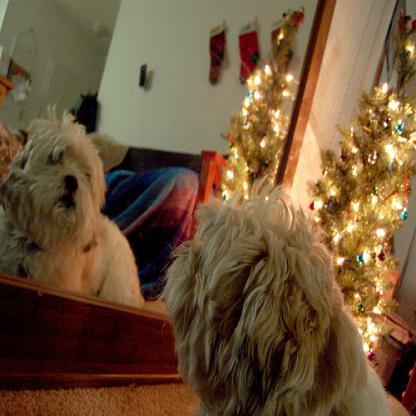dog: (158, 166, 396, 415), (1, 105, 146, 315)
